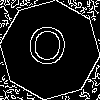O: (25, 25, 69, 75)
